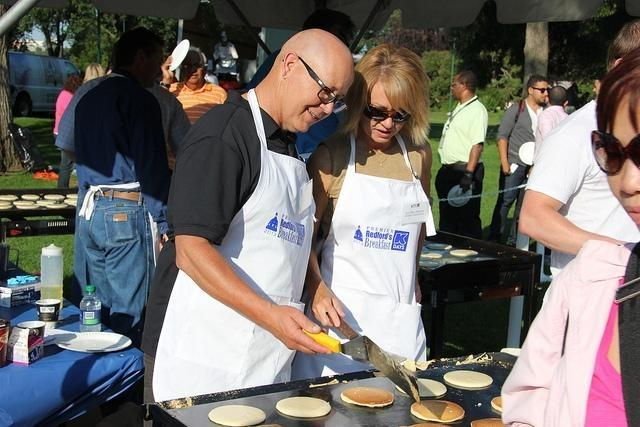bicycle: (8, 124, 44, 172)
